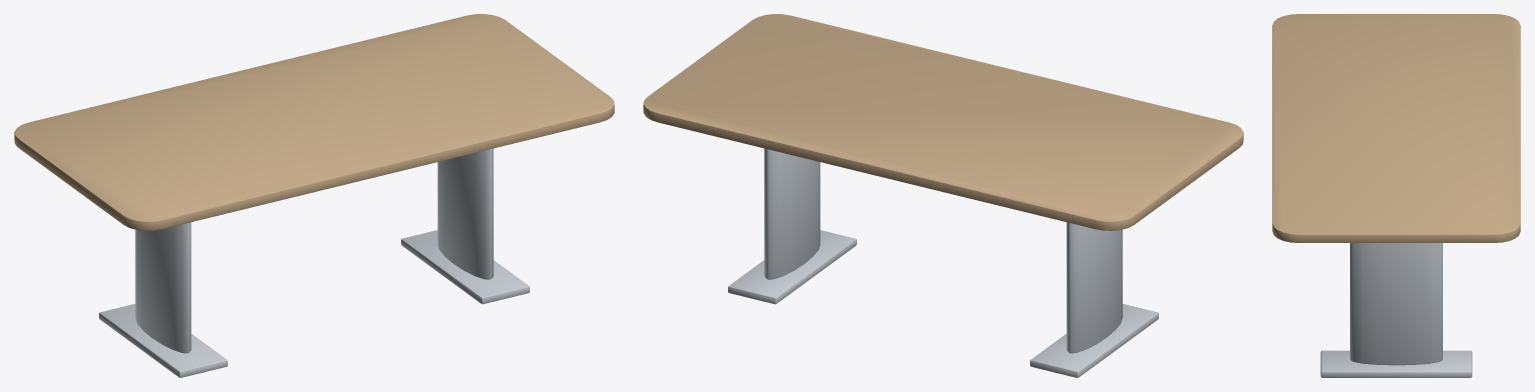
The model's file is meeting-table-s.glb.
3 views of the same model, side by side, from view 1: azimuth 30°, elevation 25°; view 2: azimuth 150°, elevation 25°; view 3: azimuth 270°, elevation 25° (orthographic). The views are drawn at different scales.
Parts seen in each view (by area): view 1: meeting-table-s; view 2: meeting-table-s; view 3: meeting-table-s.
Part boxes in pixels (left/top/right/bottom): meeting-table-s: left=14, top=14, right=614, bottom=377; meeting-table-s: left=643, top=14, right=1243, bottom=377; meeting-table-s: left=1272, top=14, right=1520, bottom=377.
Bounding box in the file's own units: 2 × 0.74 × 0.95.
